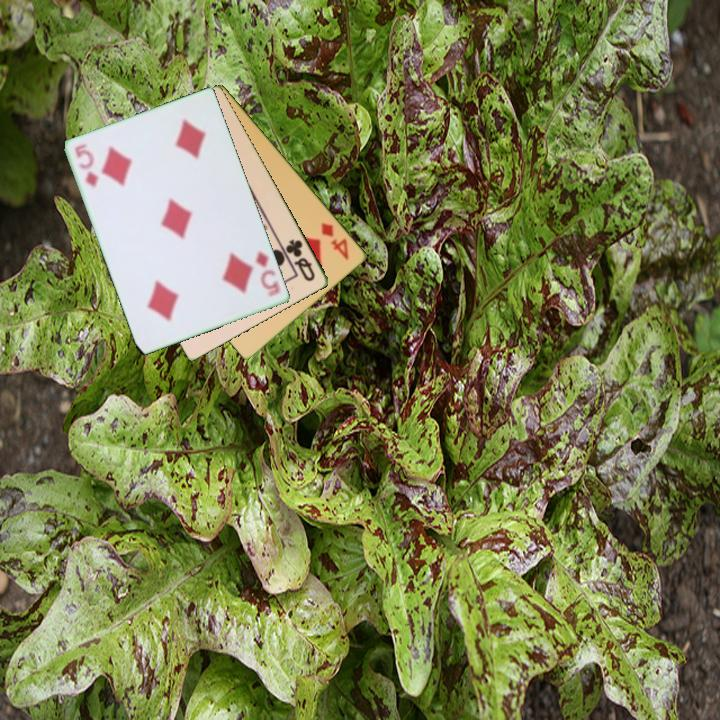4d: (318, 219, 352, 263)
5d: (253, 247, 282, 300), (72, 140, 102, 190)
Qc: (282, 236, 318, 284)
